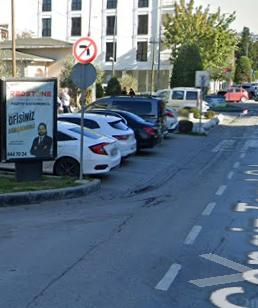leftturnsareforbidden: (75, 38, 97, 60)
